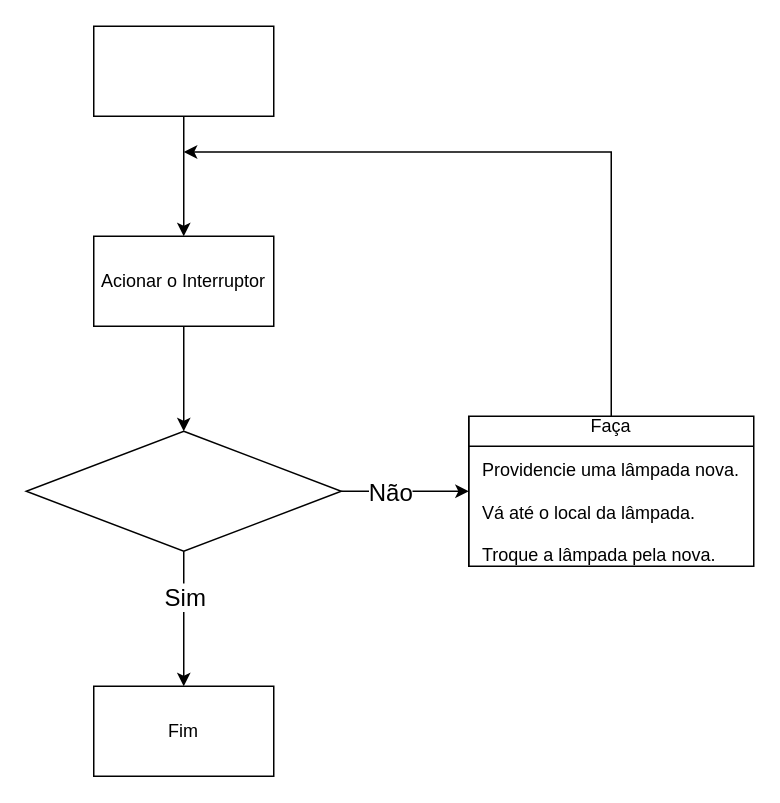
This 780x803 diagram has some shape labels left out. Each missing label, with the box of its shape:
A lâmpada funciona?: (25, 430, 341, 551)
Início: (92, 25, 274, 116)
